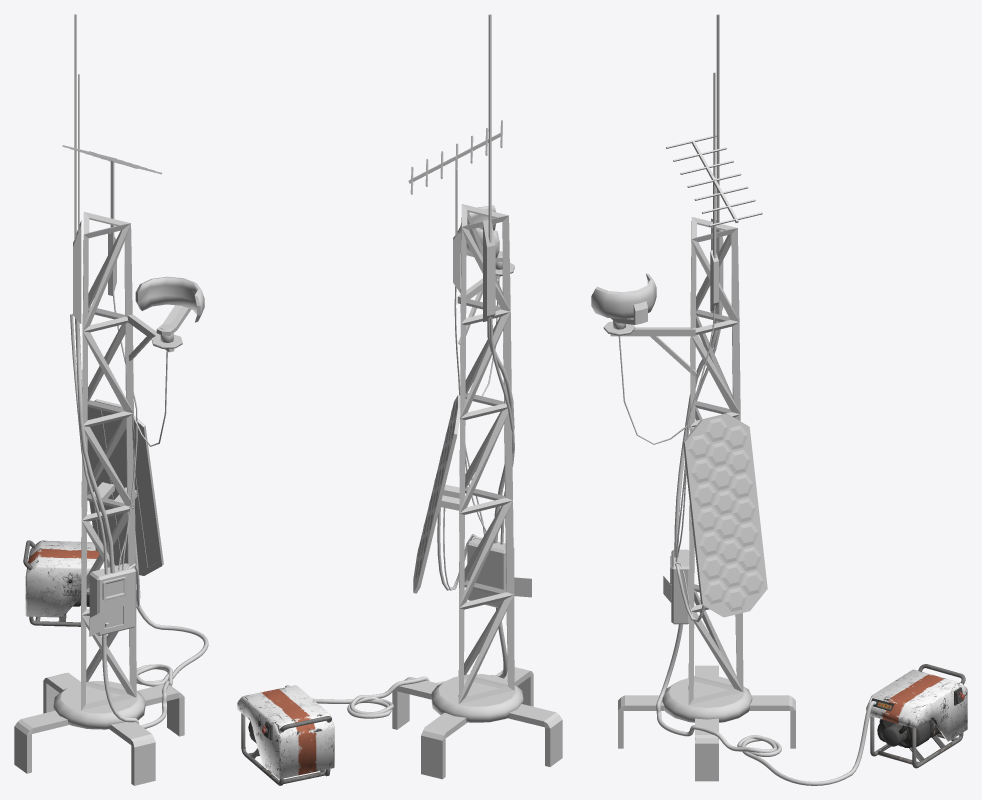
The model's file is TowerTest.fbx.
3 renders of one model, left to right at view 1: azimuth 30°, elevation 25°; view 2: azimuth 150°, elevation 25°; view 3: azimuth 270°, elevation 25°, orthographic. The views are drawn at different scales.
Parts seen in each view (by area): view 1: Circle, generator, BezierCurve; view 2: Circle, generator, BezierCurve; view 3: Circle, generator, BezierCurve.
Part boxes in pixels (box(x1,y1,x2,y2)): Circle: box(14, 14, 204, 785); generator: box(23, 540, 107, 626); BezierCurve: box(102, 605, 208, 728); Circle: box(392, 14, 562, 779); generator: box(237, 685, 334, 785); BezierCurve: box(285, 607, 507, 718); Circle: box(591, 14, 795, 781); generator: box(866, 664, 967, 768); BezierCurve: box(656, 624, 876, 785).
Size of the model in its own units: 363 by 1073 by 509.
